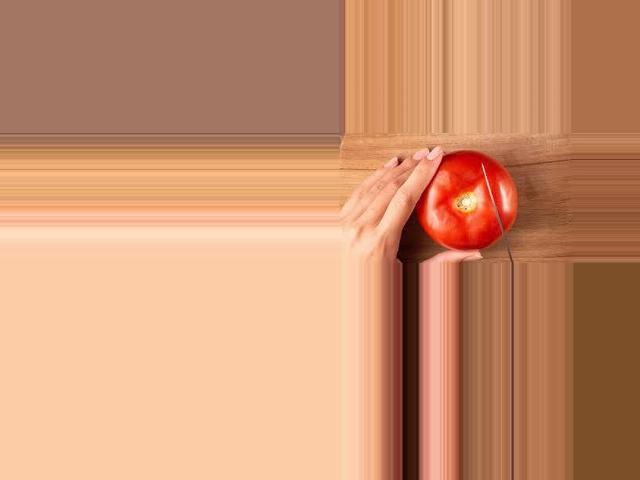tomato: (415, 151, 515, 250)
